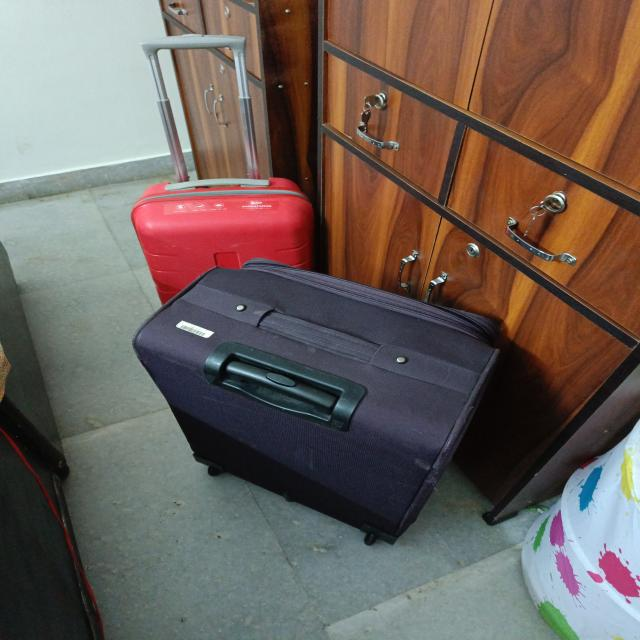suitcaserotation: (126, 255, 508, 550), (127, 31, 320, 306)
